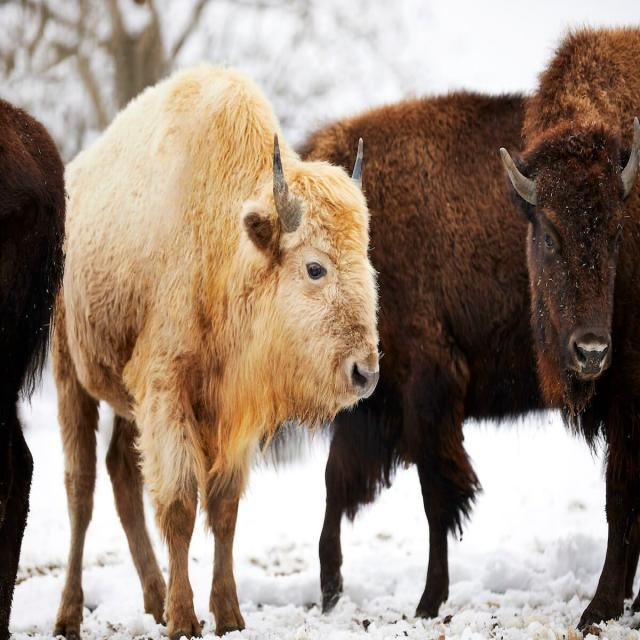bison: (51, 66, 378, 639), (500, 27, 639, 630)
